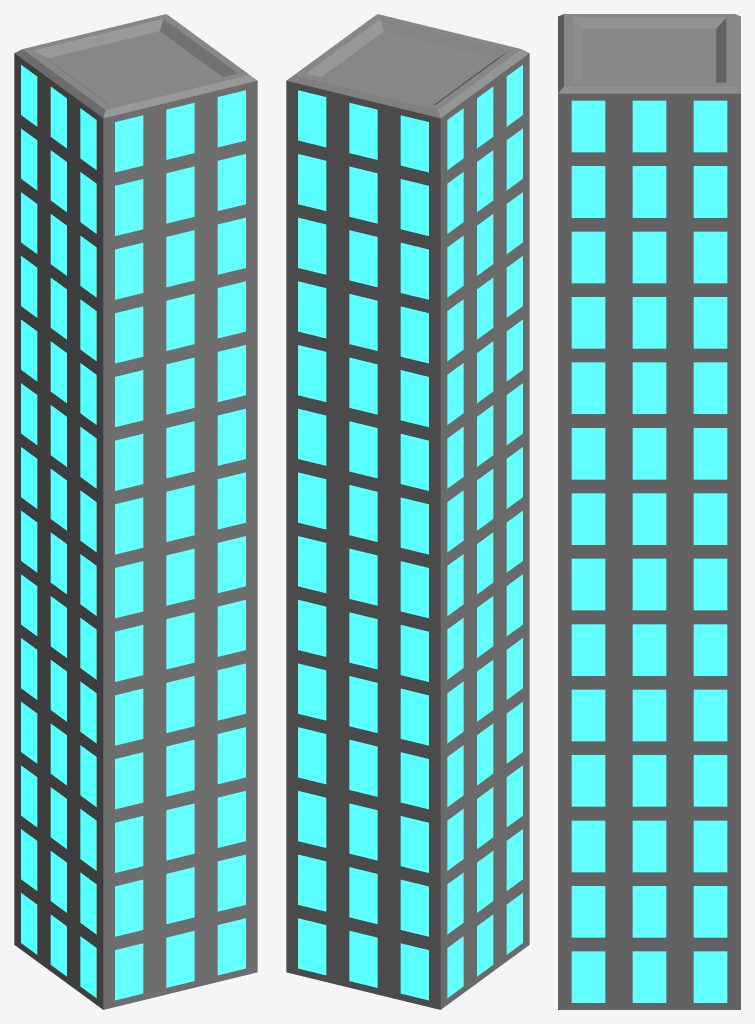
Rendered from gameTowerOne.fbx.
The picture shows the model from 3 angles, left to right: view 1: azimuth 30°, elevation 25°; view 2: azimuth 150°, elevation 25°; view 3: azimuth 270°, elevation 25°; orthographic projection. The views are drawn at different scales.
Parts seen in each view (by area): view 1: Cube; view 2: Cube; view 3: Cube.
Boxes of the visible parts, <box> form: Cube: <box>14,14,257,1009</box>; Cube: <box>286,14,529,1009</box>; Cube: <box>558,14,740,1009</box>.
Size of the model in its own units: 6000 by 6000 by 33333.
